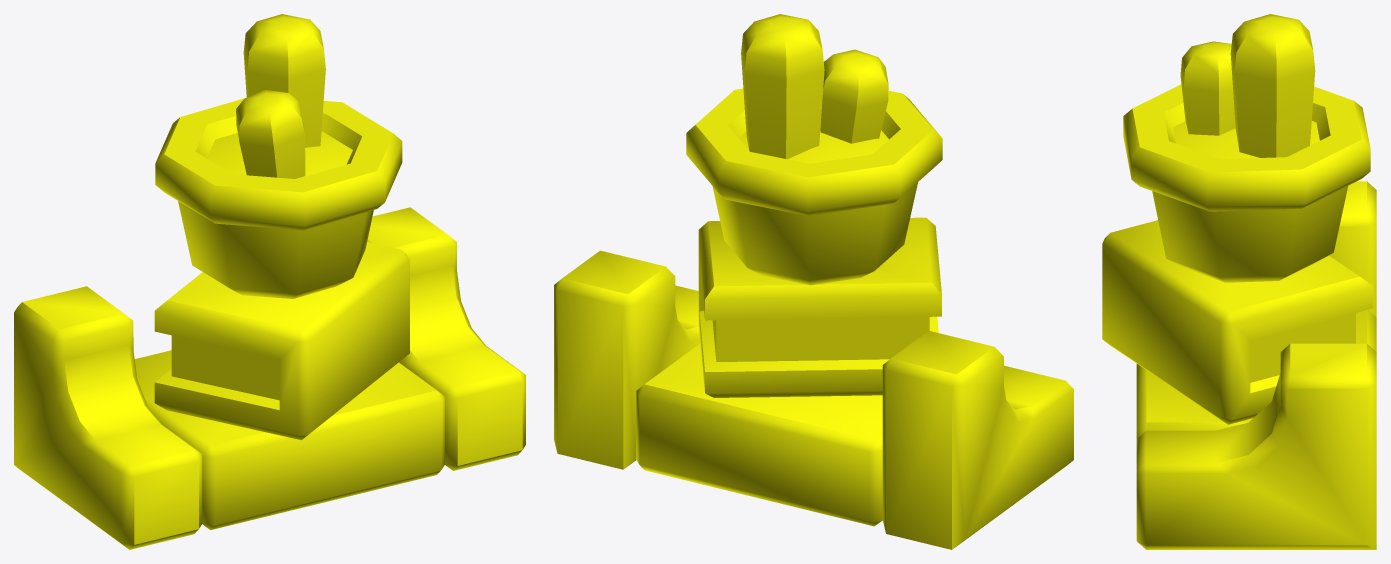
File: kaykit-shelf-b-small-decorated.glb
3 views of the same model, side by side, from view 1: azimuth 30°, elevation 25°; view 2: azimuth 150°, elevation 25°; view 3: azimuth 270°, elevation 25° (orthographic). The views are drawn at different scales.
Parts seen in each view (by area): view 1: shelf_B_small_decorated; view 2: shelf_B_small_decorated; view 3: shelf_B_small_decorated.
Boxes of the visible parts, bbox=[...] form: shelf_B_small_decorated: bbox=[14, 14, 525, 549]; shelf_B_small_decorated: bbox=[554, 14, 1073, 549]; shelf_B_small_decorated: bbox=[1102, 14, 1376, 549].
Size of the model in its own units: 1 by 1.01 by 0.5713.
